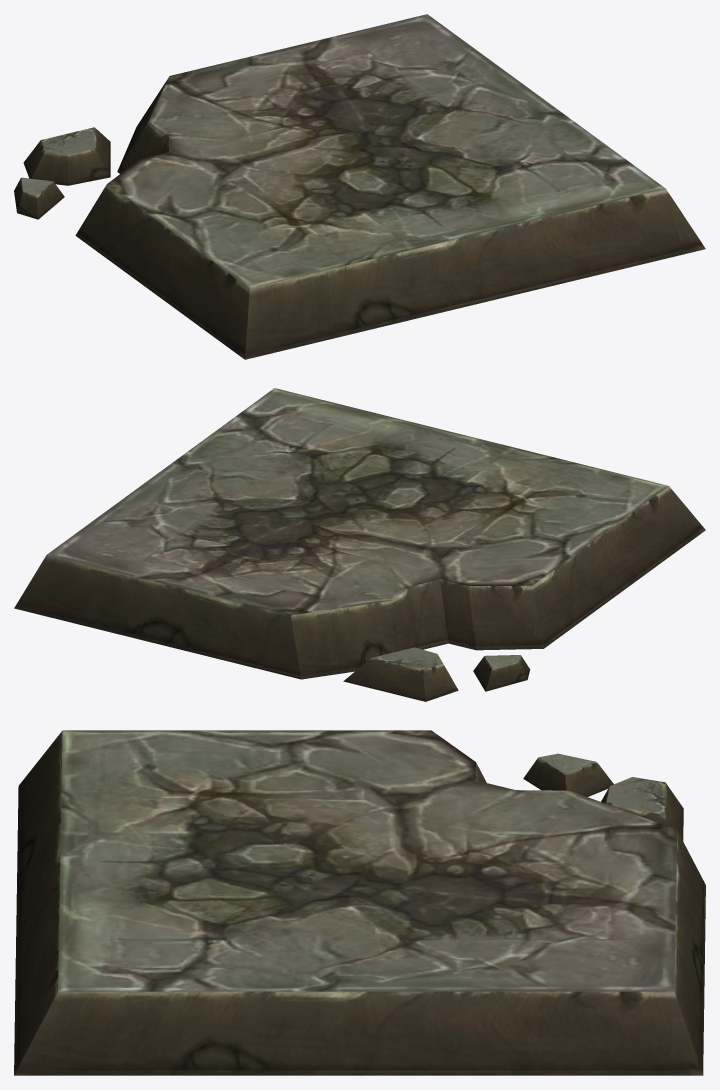
Rendered from F_dizhuan010.fbx.
3 views of the same model, one above another, from view 1: azimuth 30°, elevation 25°; view 2: azimuth 150°, elevation 25°; view 3: azimuth 270°, elevation 25° (orthographic). The views are drawn at different scales.
Parts seen in each view (by area): view 1: F_dizhuan010; view 2: F_dizhuan010; view 3: F_dizhuan010.
Boxes of the visible parts, x1=… form: F_dizhuan010: x1=14, y1=14, x2=705, y2=359; F_dizhuan010: x1=14, y1=388, x2=705, y2=701; F_dizhuan010: x1=14, y1=730, x2=705, y2=1075.
Bounding box in the file's own units: 125 × 13.37 × 120.
